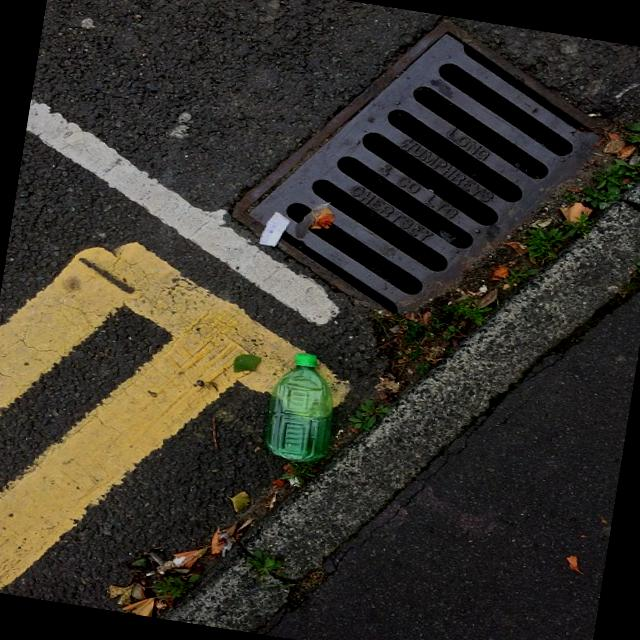Trash: (264, 342, 360, 472)
